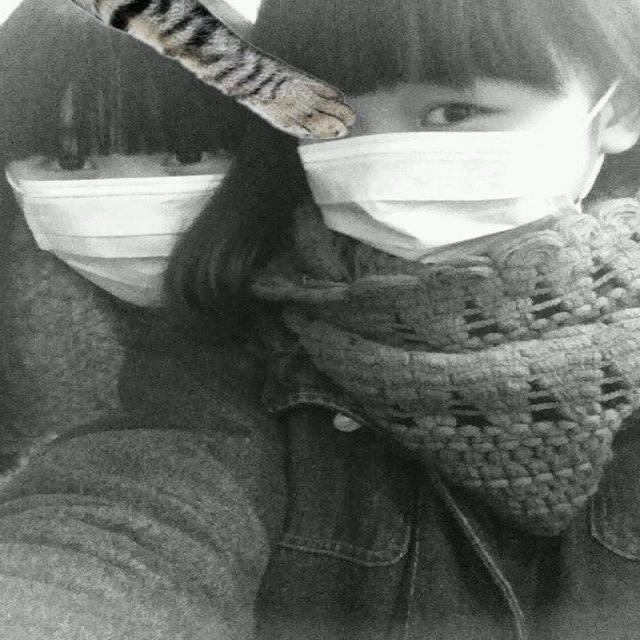mask: (305, 1, 588, 316), (9, 52, 266, 310)
